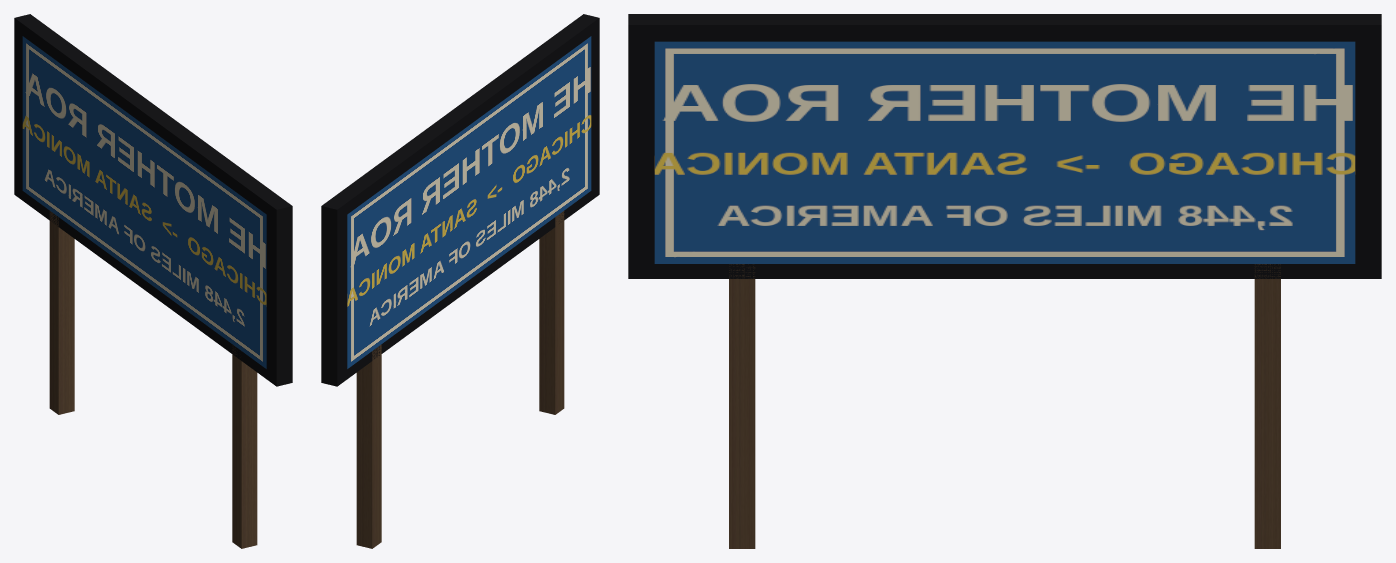
The model's file is billboard.obj.
3 renders of one model, left to right at view 1: azimuth 30°, elevation 25°; view 2: azimuth 150°, elevation 25°; view 3: azimuth 270°, elevation 25°, orthographic. The views are drawn at different scales.
Parts seen in each view (by area): view 1: billboard; view 2: billboard; view 3: billboard.
Part boxes in pixels (box(x1,y1,x2,y2)): billboard: box(14, 14, 292, 548); billboard: box(321, 14, 599, 548); billboard: box(628, 14, 1381, 548).
Bounding box in the file's own units: 0.34 × 6.6 × 8.6.
3 materials, 2 textured.
